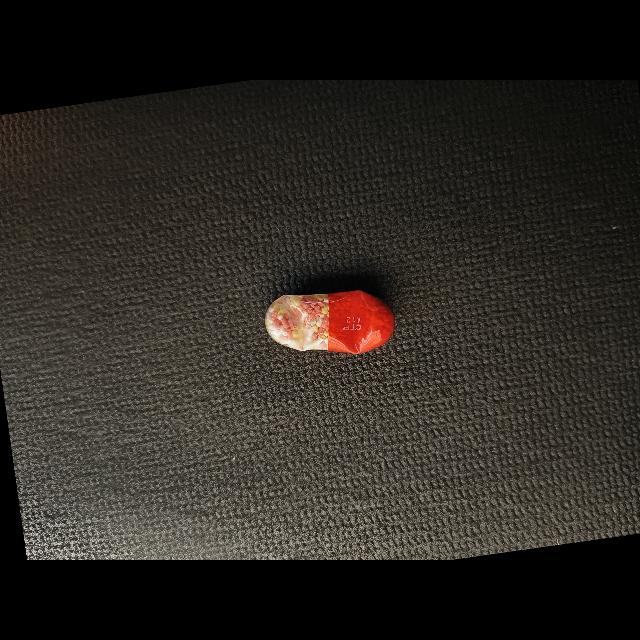Defective Capsule: (265, 290, 395, 354)
